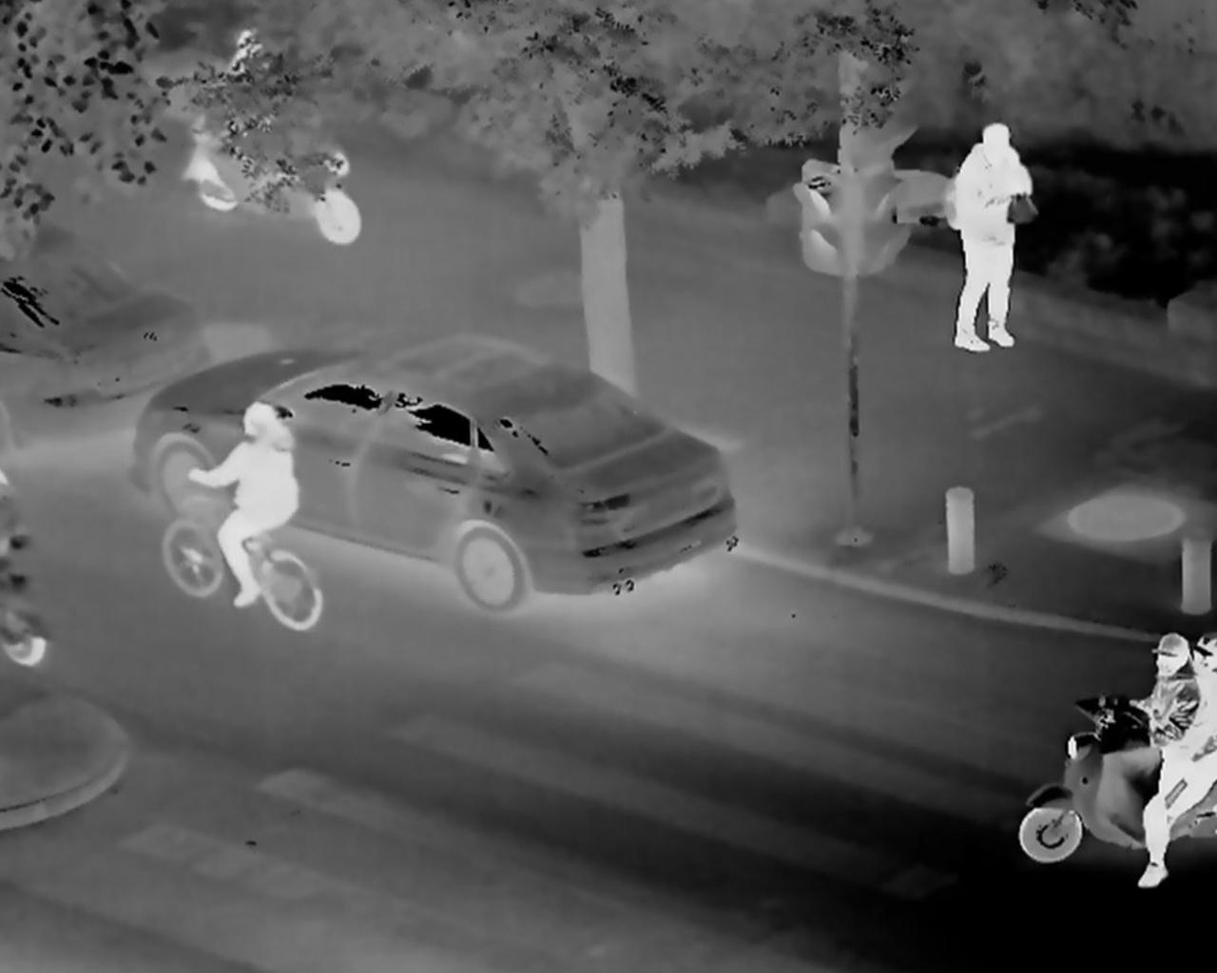person: (174, 398, 329, 615), (214, 29, 323, 230), (938, 124, 1021, 355), (1119, 630, 1189, 887), (1193, 637, 1217, 805)
